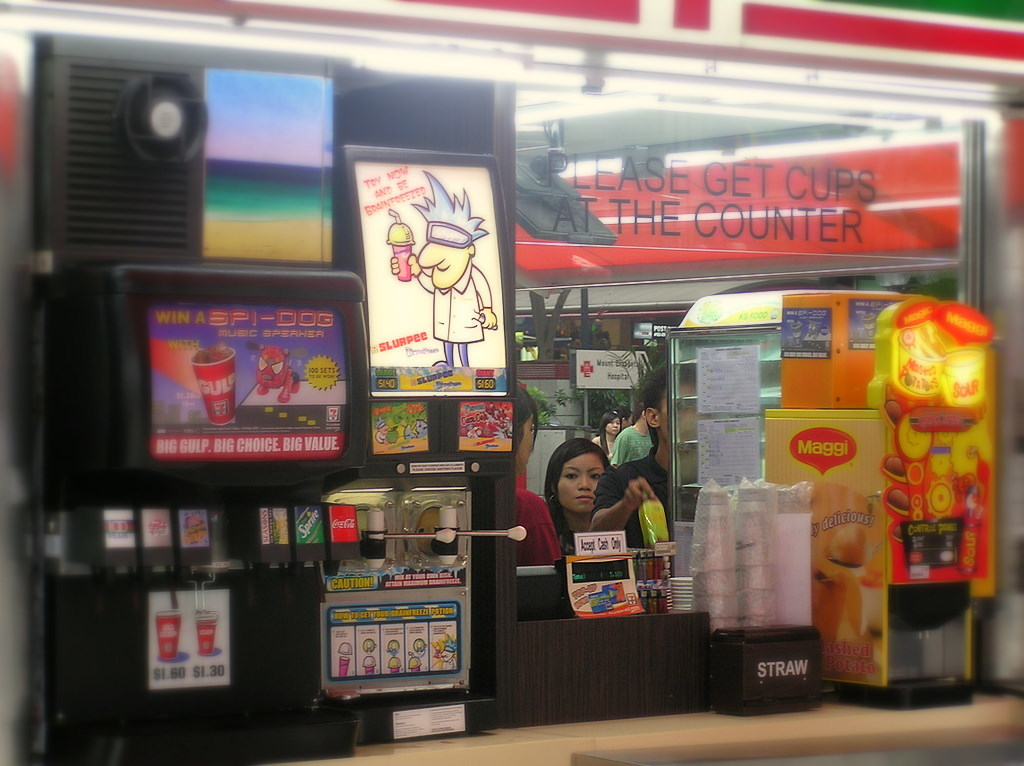Person: (514, 358, 696, 565), (391, 170, 498, 367)
